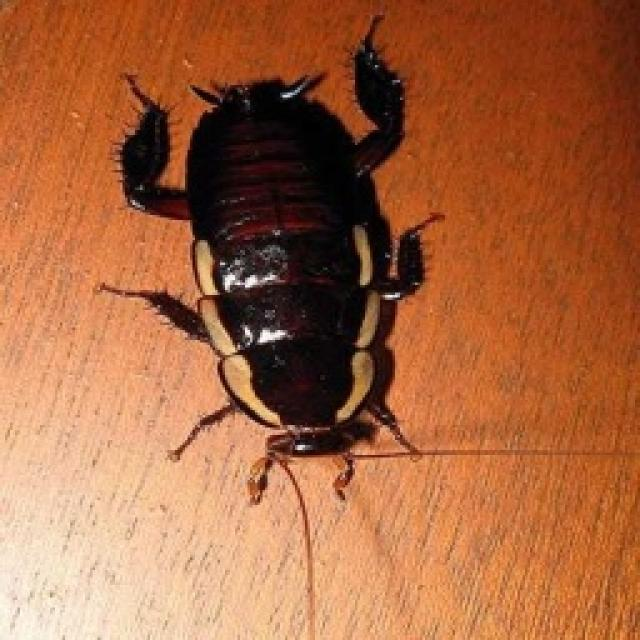cockroach: (96, 10, 449, 635)
